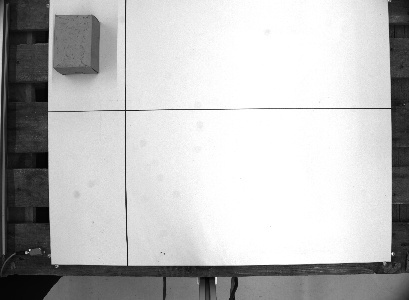b6: (49, 12, 100, 76)
